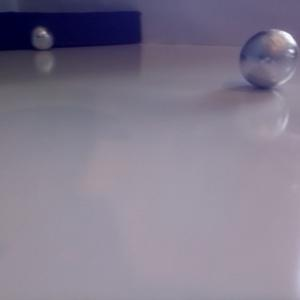zone: (1, 11, 142, 51)
